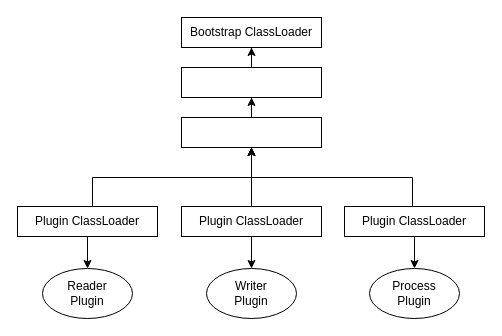
This 502x336 diagram has some shape labels left out. The shapes that lost their labels are listed below. From the top down, each one's centre as x and y in pixels, then its label:
(251,82): Extension ClassLoader
(251,132): Application ClassLoader
